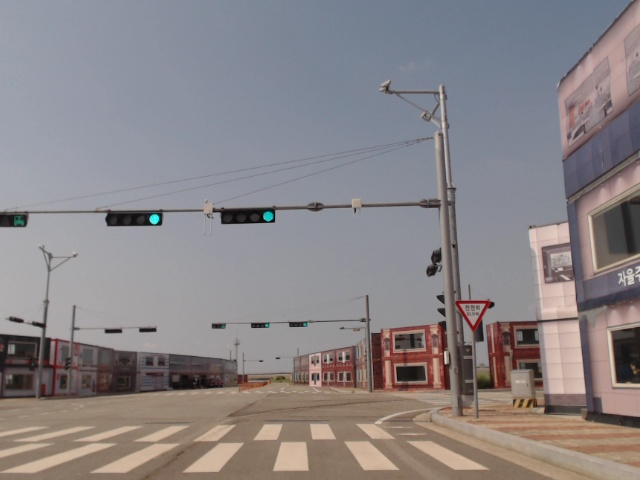straight_green_4: (108, 212, 162, 226), (222, 211, 276, 224), (288, 321, 308, 329), (251, 322, 270, 327)
